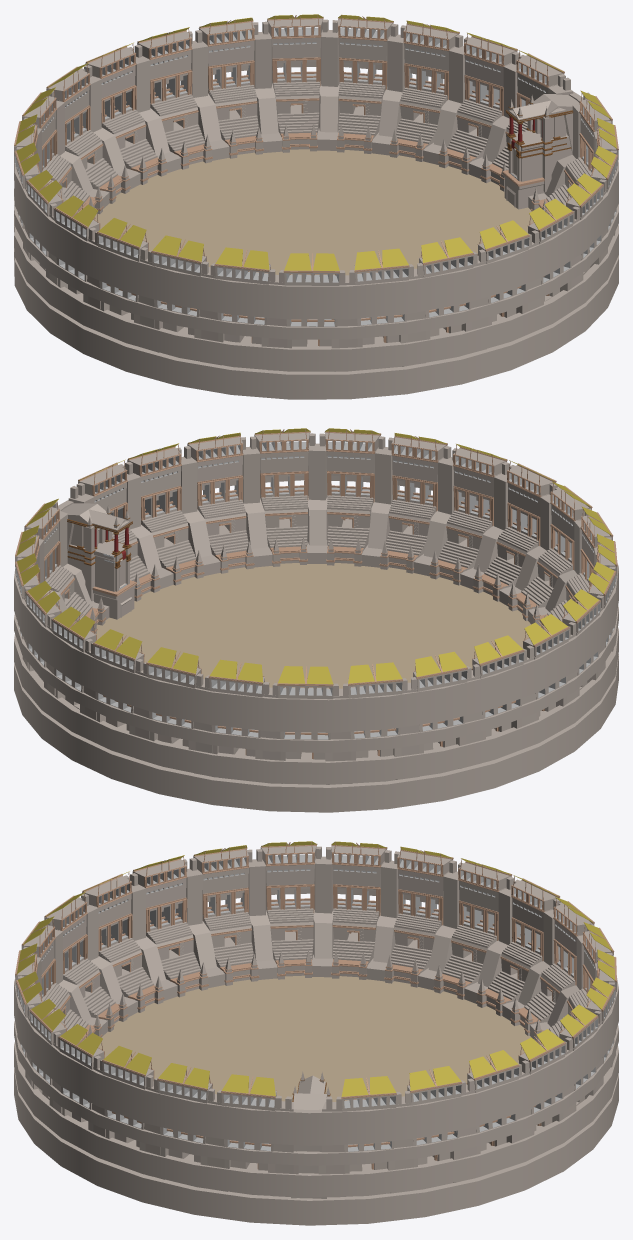
The model's file is Arena.fbx.
The picture shows the model from 3 angles, top to bottom: view 1: azimuth 30°, elevation 25°; view 2: azimuth 150°, elevation 25°; view 3: azimuth 270°, elevation 25°; orthographic projection.
Visible parts, largest first — view 1: pCylinder1; view 2: pCylinder1; view 3: pCylinder1.
Part boxes in pixels (x1,y1,x2,y2): pCylinder1: (14, 14, 618, 399); pCylinder1: (14, 428, 618, 812); pCylinder1: (14, 841, 618, 1225).
Size of the model in its own units: 42.77 by 10.72 by 42.77.
